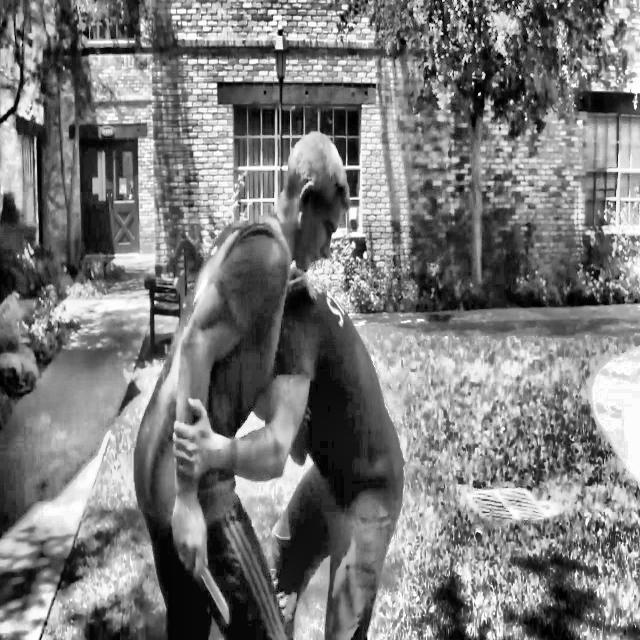pisau: (170, 507, 238, 630)
